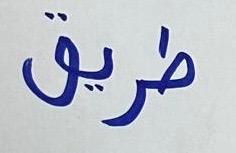qaf: (21, 9, 79, 108)
reh: (113, 75, 147, 127)
tah: (149, 26, 199, 98)
yeh: (80, 40, 112, 93)
